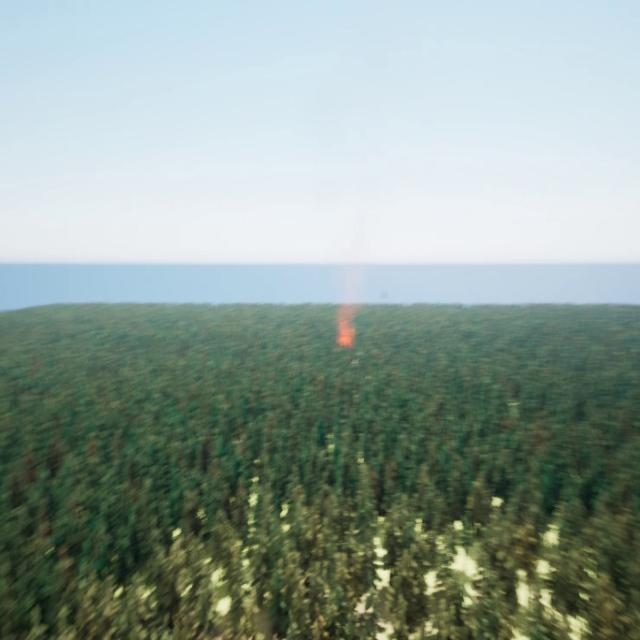smoke: (336, 278, 359, 347)
